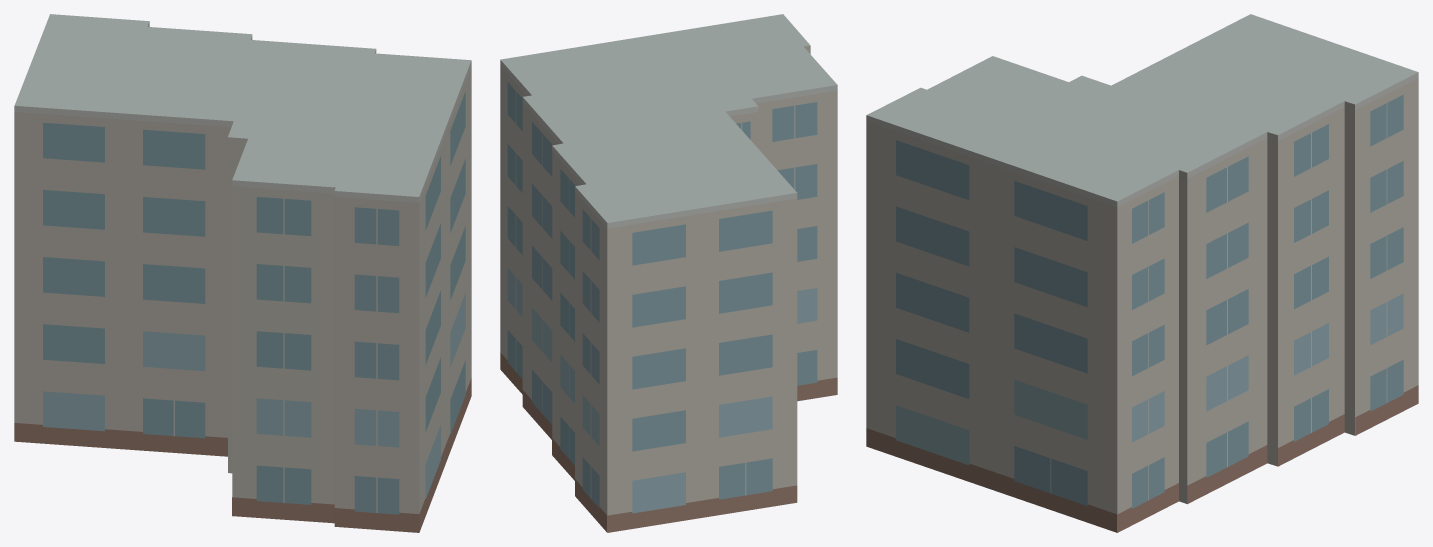
Rendered from survey-upis-32670186.glb.
The picture shows the model from 3 angles, left to right: view 1: azimuth 30°, elevation 25°; view 2: azimuth 150°, elevation 25°; view 3: azimuth 270°, elevation 25°; orthographic projection. The views are drawn at different scales.
Visible parts, largest first — view 1: survey-upis-32670186.tmp; view 2: survey-upis-32670186.tmp; view 3: survey-upis-32670186.tmp.
Part boxes in pixels (box(x1,y1,x2,y2)): survey-upis-32670186.tmp: box(14, 14, 471, 532); survey-upis-32670186.tmp: box(500, 14, 837, 532); survey-upis-32670186.tmp: box(866, 14, 1418, 532).
Size of the model in its own units: 16.52 by 13.6 by 20.55.
